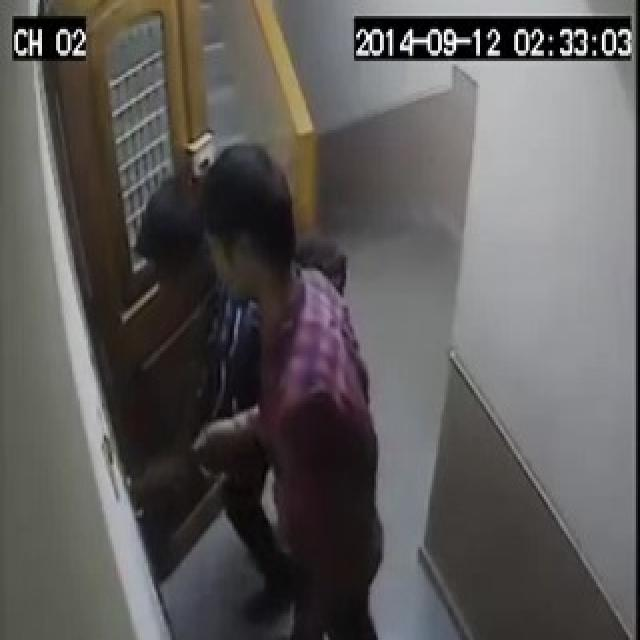burglary: (66, 163, 352, 568)
